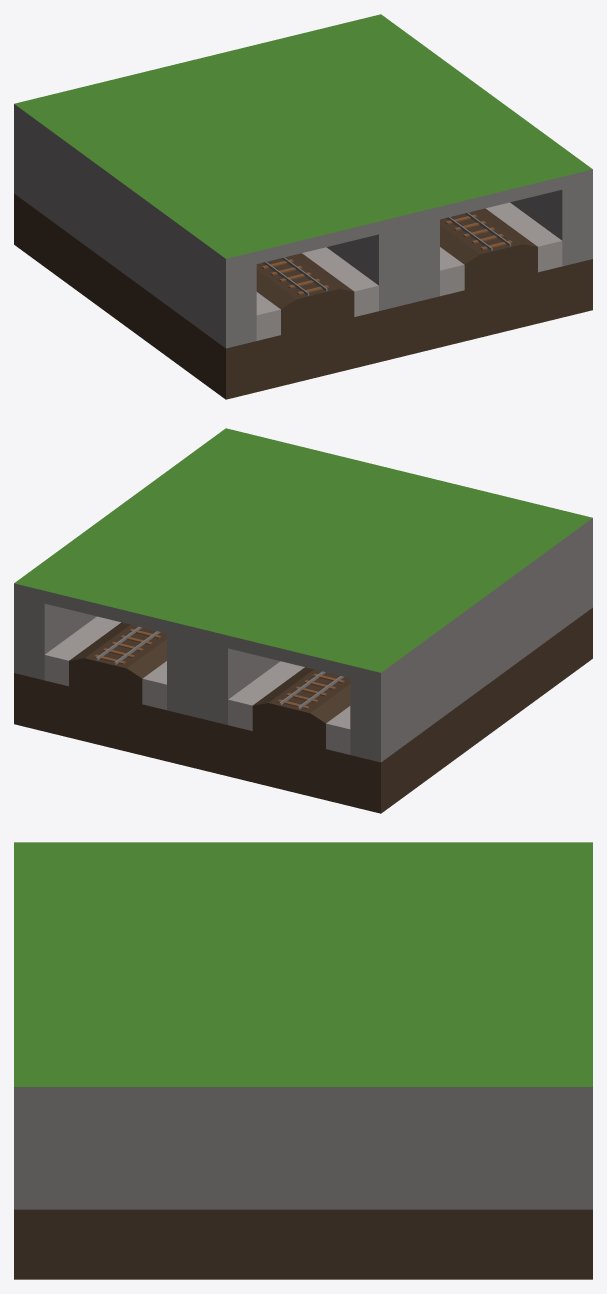
Rendered from tiles-tile-rail-tunnel-double.glb.
3 renders of one model, top to bottom at view 1: azimuth 30°, elevation 25°; view 2: azimuth 150°, elevation 25°; view 3: azimuth 270°, elevation 25°, orthographic. The views are drawn at different scales.
Visible parts, largest first — view 1: tile-rail-tunnel-double; view 2: tile-rail-tunnel-double; view 3: tile-rail-tunnel-double.
Part boxes in pixels (x1,y1,x2,y2): tile-rail-tunnel-double: (14,14,592,399); tile-rail-tunnel-double: (14,428,592,813); tile-rail-tunnel-double: (14,842,592,1279).
Size of the model in its own units: 30 by 11 by 30.
